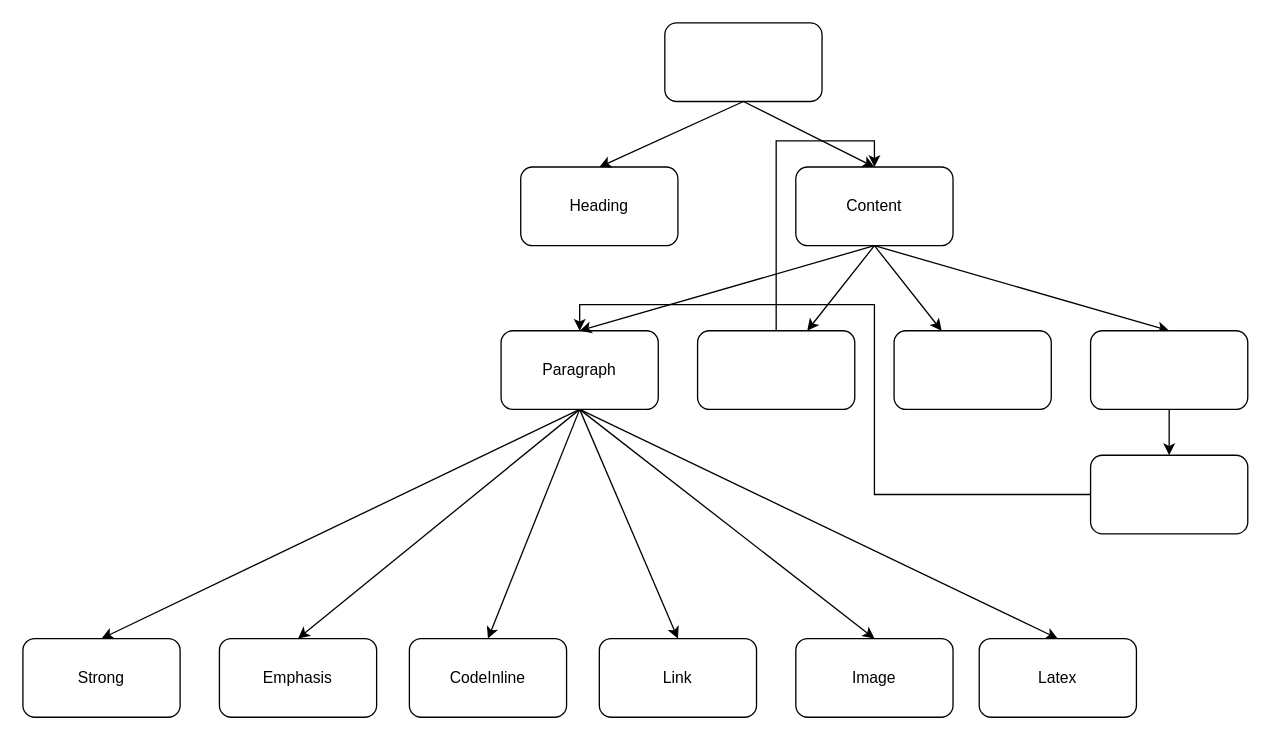
The diagram is 1271 pixels wide and 740 high, and some of its shapes have lost their labels. Here are the shapes that lost their labels. From the top down, the centre of each, then its label:
(743,62): Document
(775,369): List
(972,369): CodeBlock
(1168,369): Table
(1168,494): TableRaw
